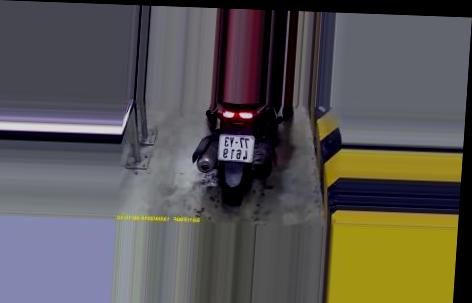License_Plate: (216, 132, 257, 164)
